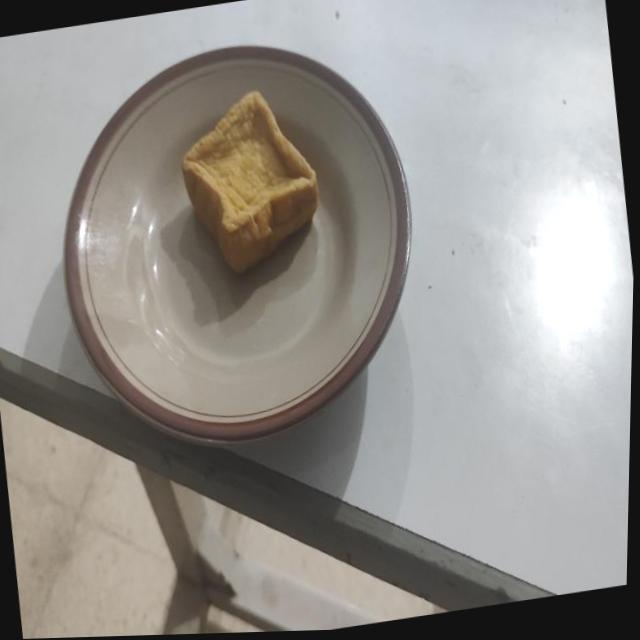tahu_goreng: (182, 91, 318, 272)
